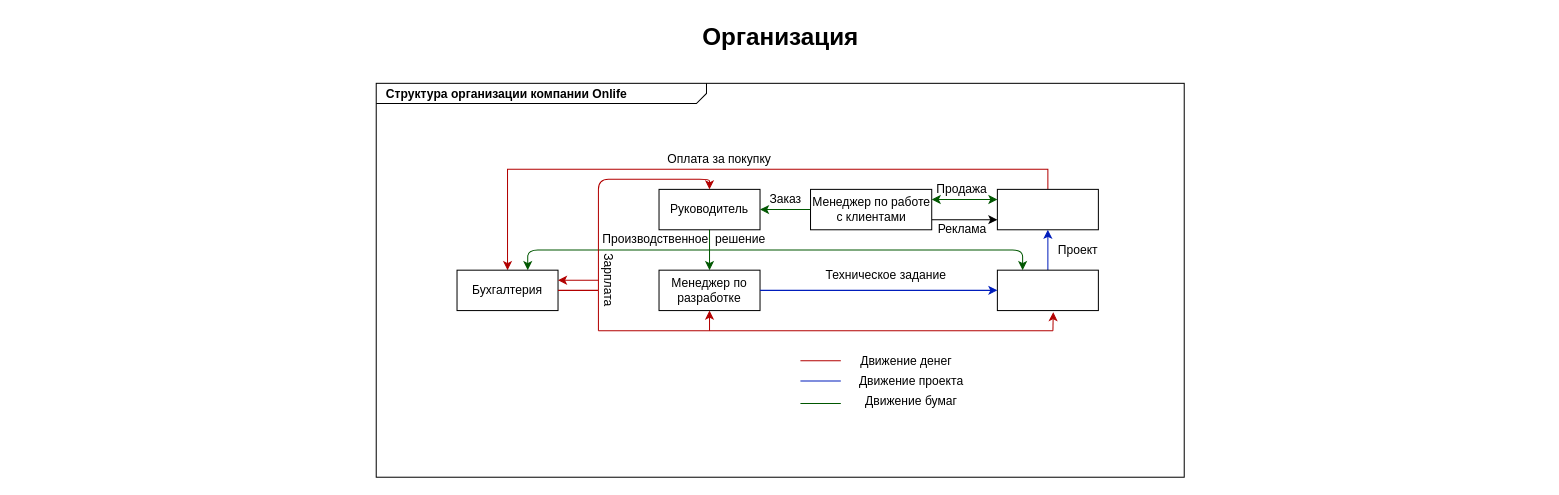
This 1559x495 diagram has some shape labels left out. The box of each missing label's shape, as (x1, y1, x2, y2) in pixels:
Покупатель: (996, 188, 1098, 230)
Разработчики: (996, 269, 1098, 311)
